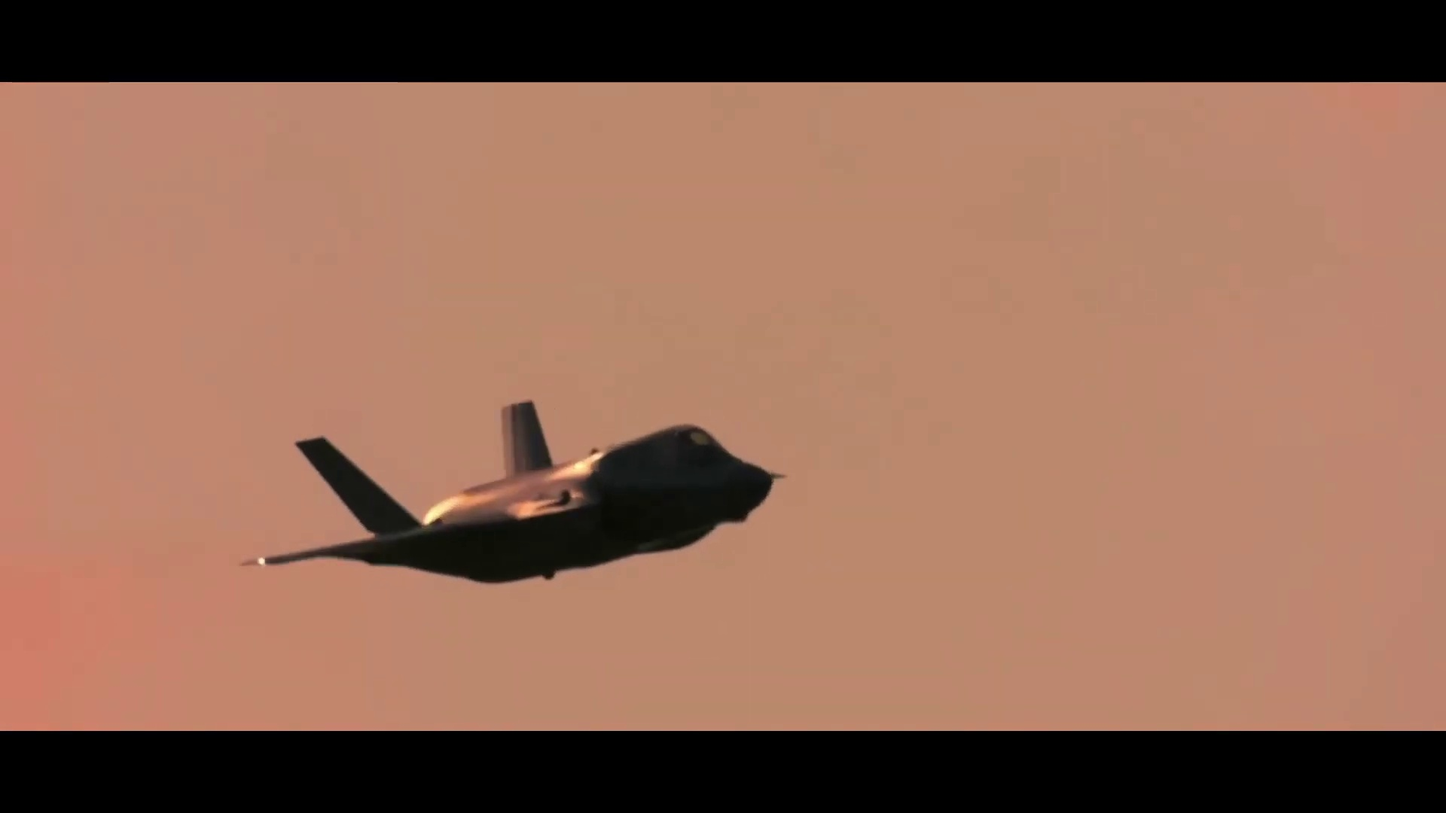F35: (241, 392, 785, 587)
